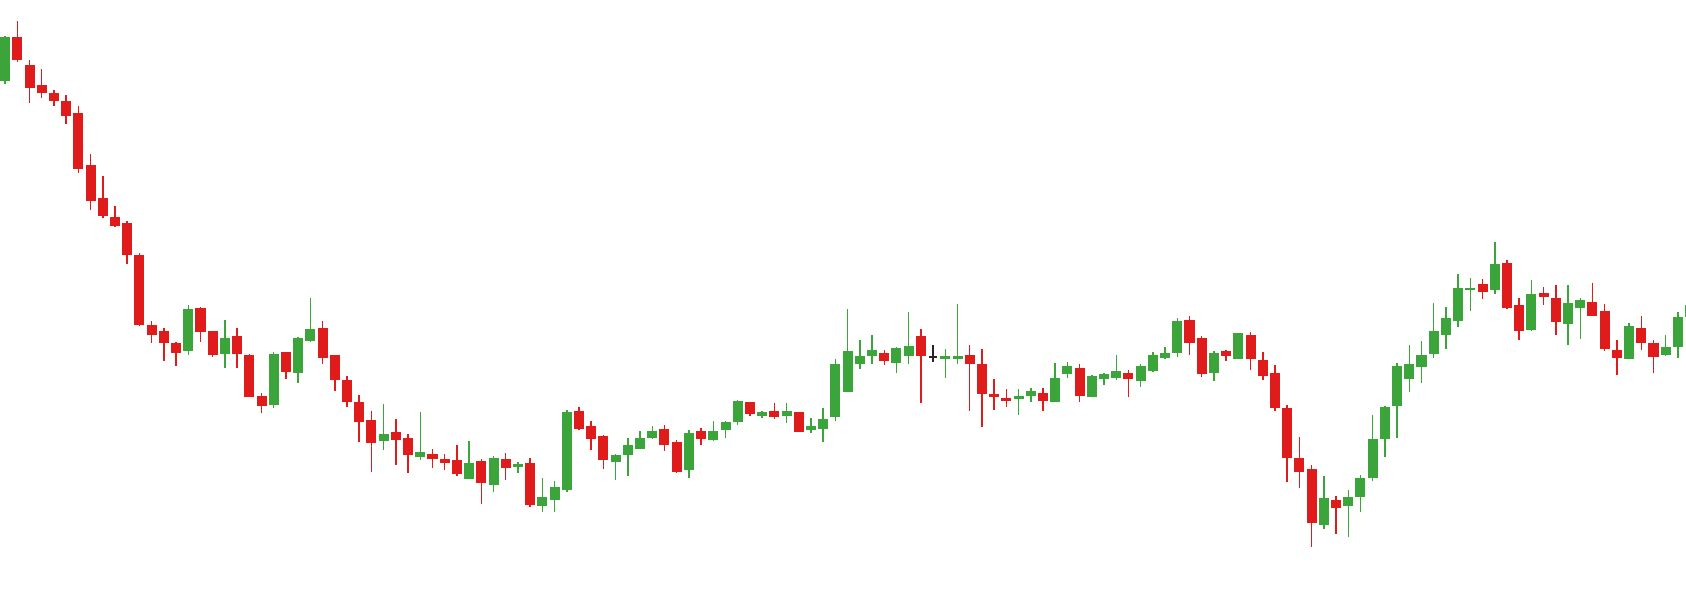sell: (223, 308, 328, 383)
